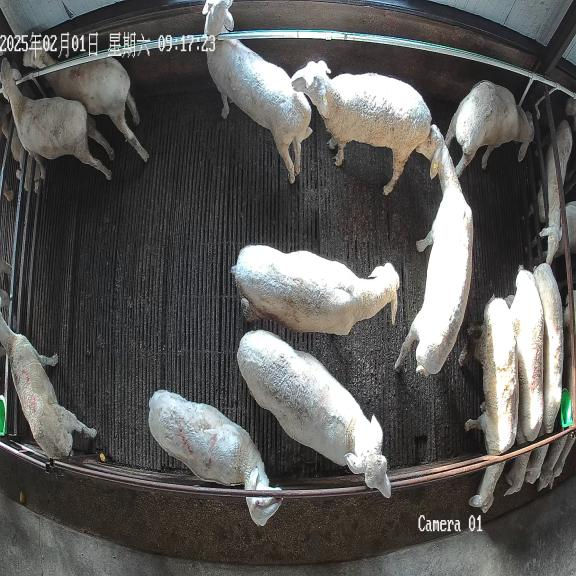drinking: (445, 80, 533, 176)
eating: (459, 296, 519, 513), (505, 266, 544, 495), (524, 263, 563, 484)
stand: (237, 330, 391, 497), (202, 0, 312, 183), (395, 124, 473, 375), (291, 60, 431, 195), (148, 390, 282, 526), (23, 39, 148, 162), (232, 245, 399, 335), (0, 313, 96, 457), (0, 59, 114, 179)
